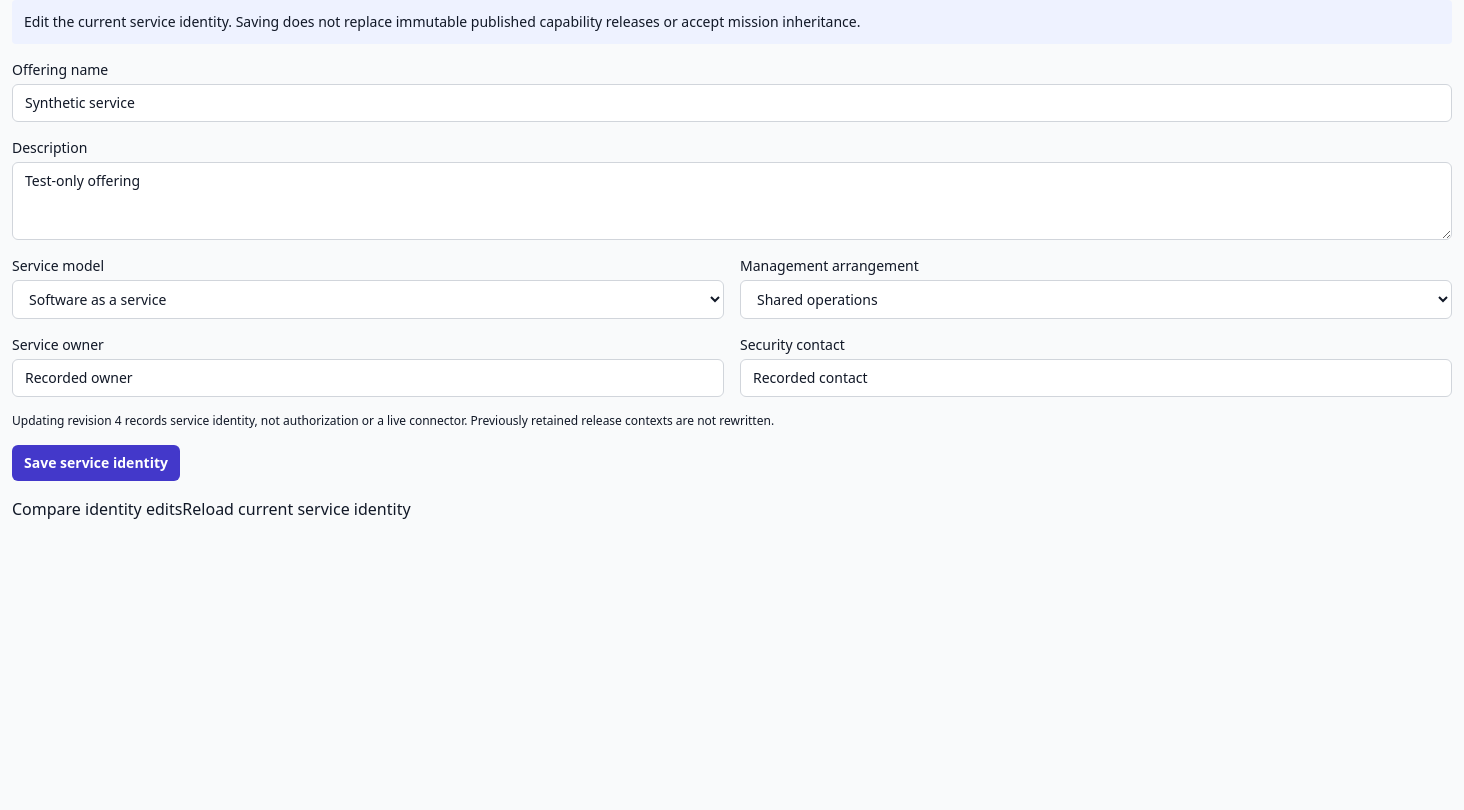
Test: compares recorded and missing metadata without inferred service duties: recorded=true
Select "Not recorded" in the dropdown labelled "Service model" at coordinates (368, 300), box 12,280 -> 724,319
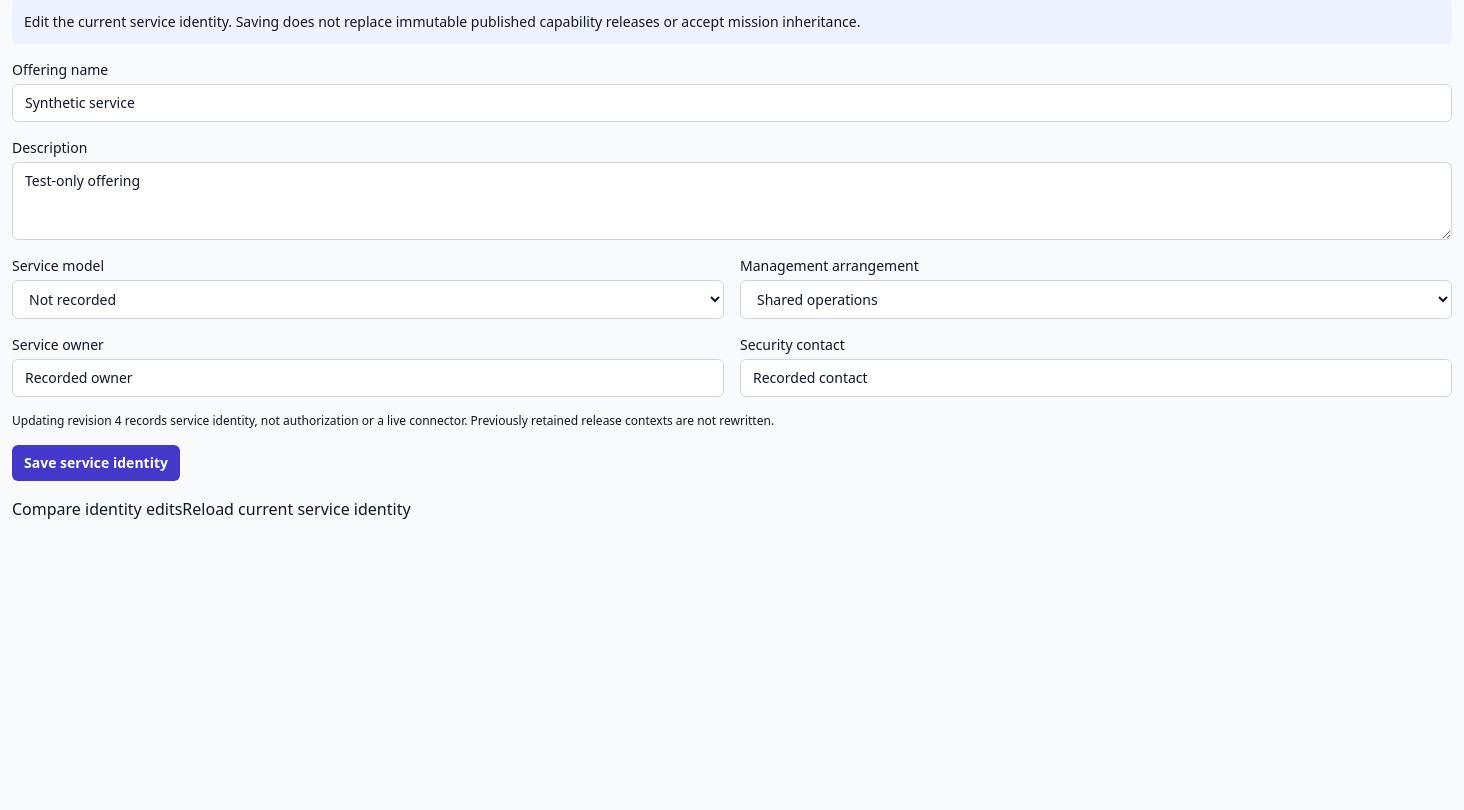
Select "Not recorded" in the dropdown labelled "Management arrangement" at coordinates (1096, 300), box 740,280 -> 1452,319
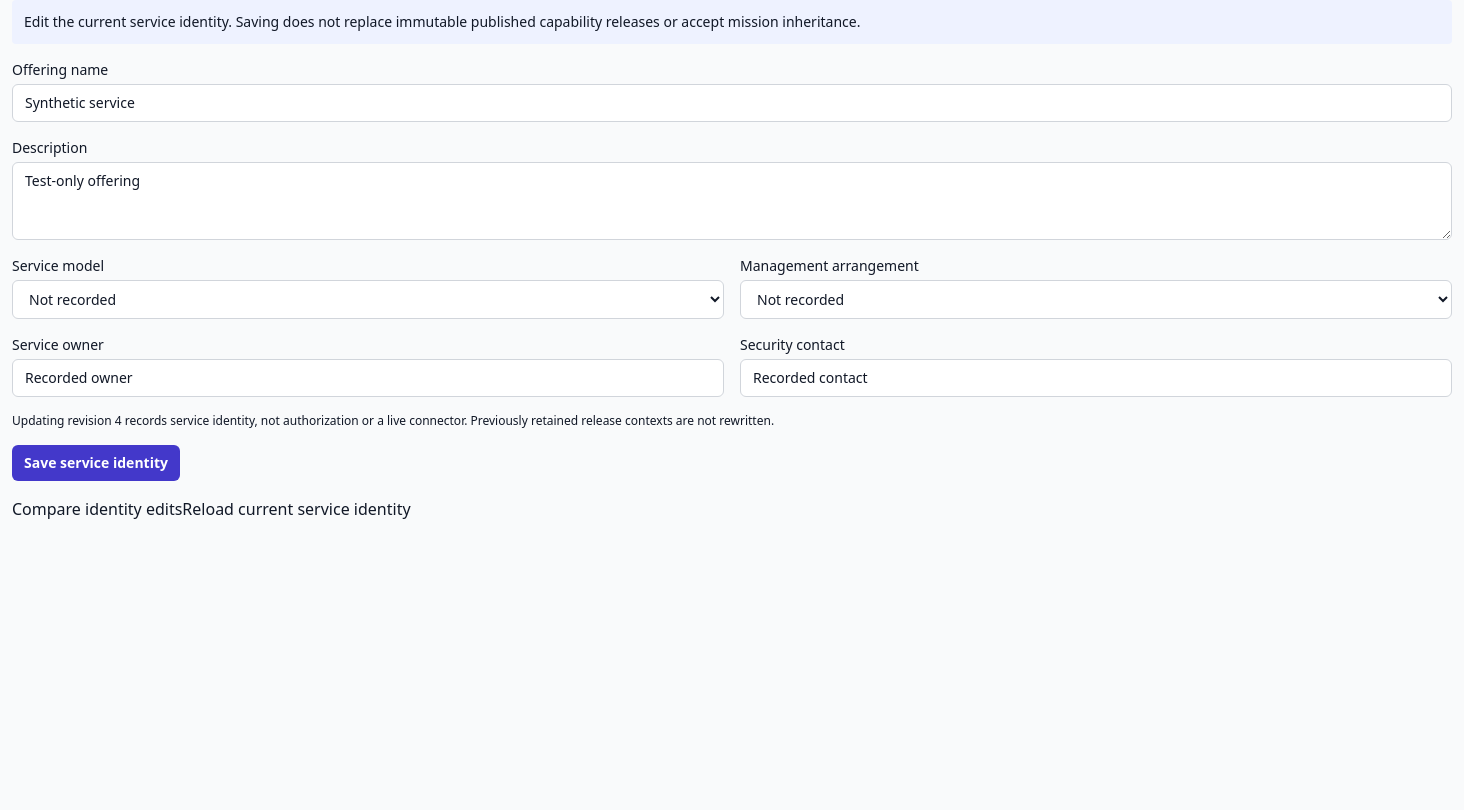
Clear the field labelled "Service owner" at coordinates (368, 378), box 12,359 -> 724,397
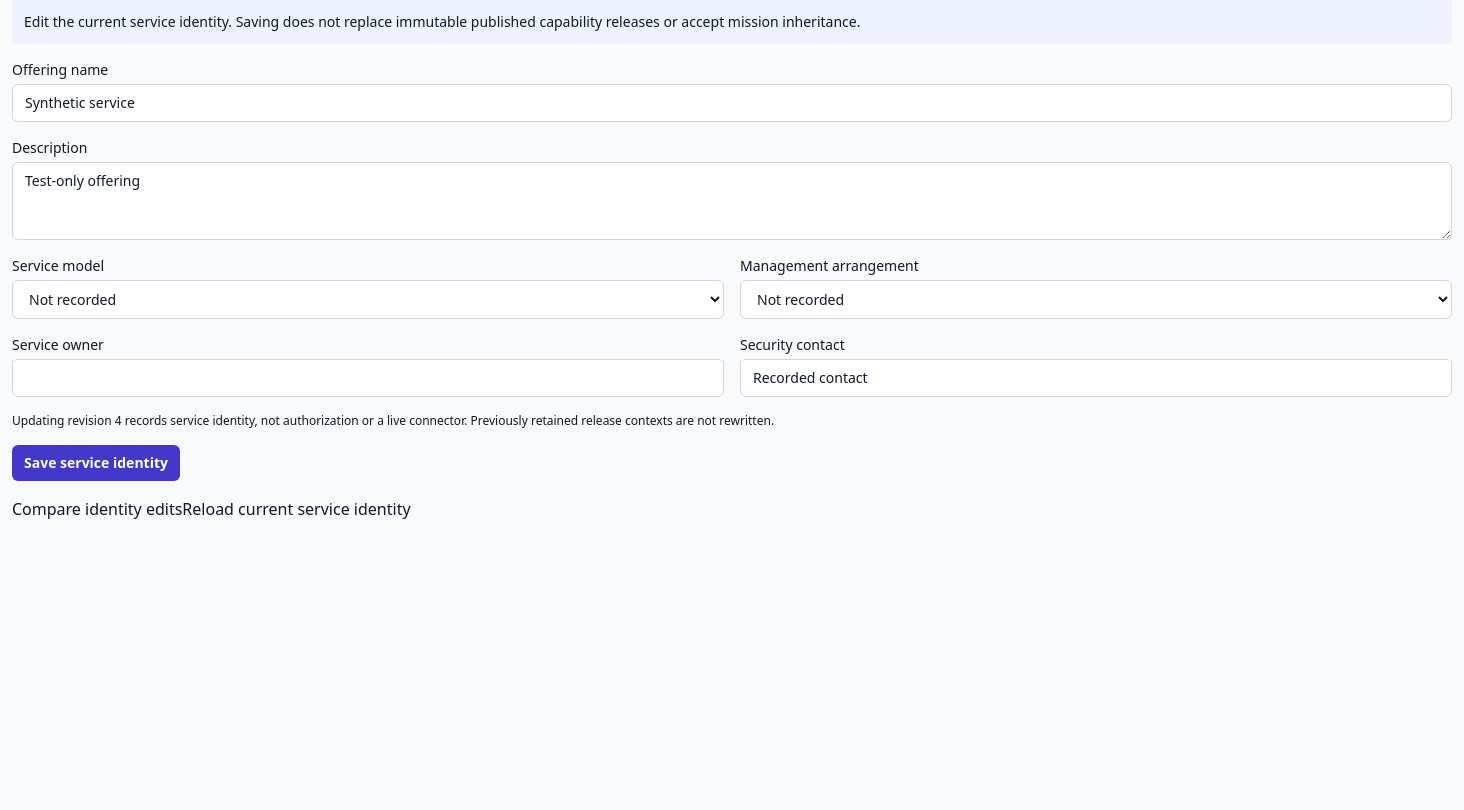
Clear the field labelled "Security contact" at coordinates (1096, 378), box 740,359 -> 1452,397
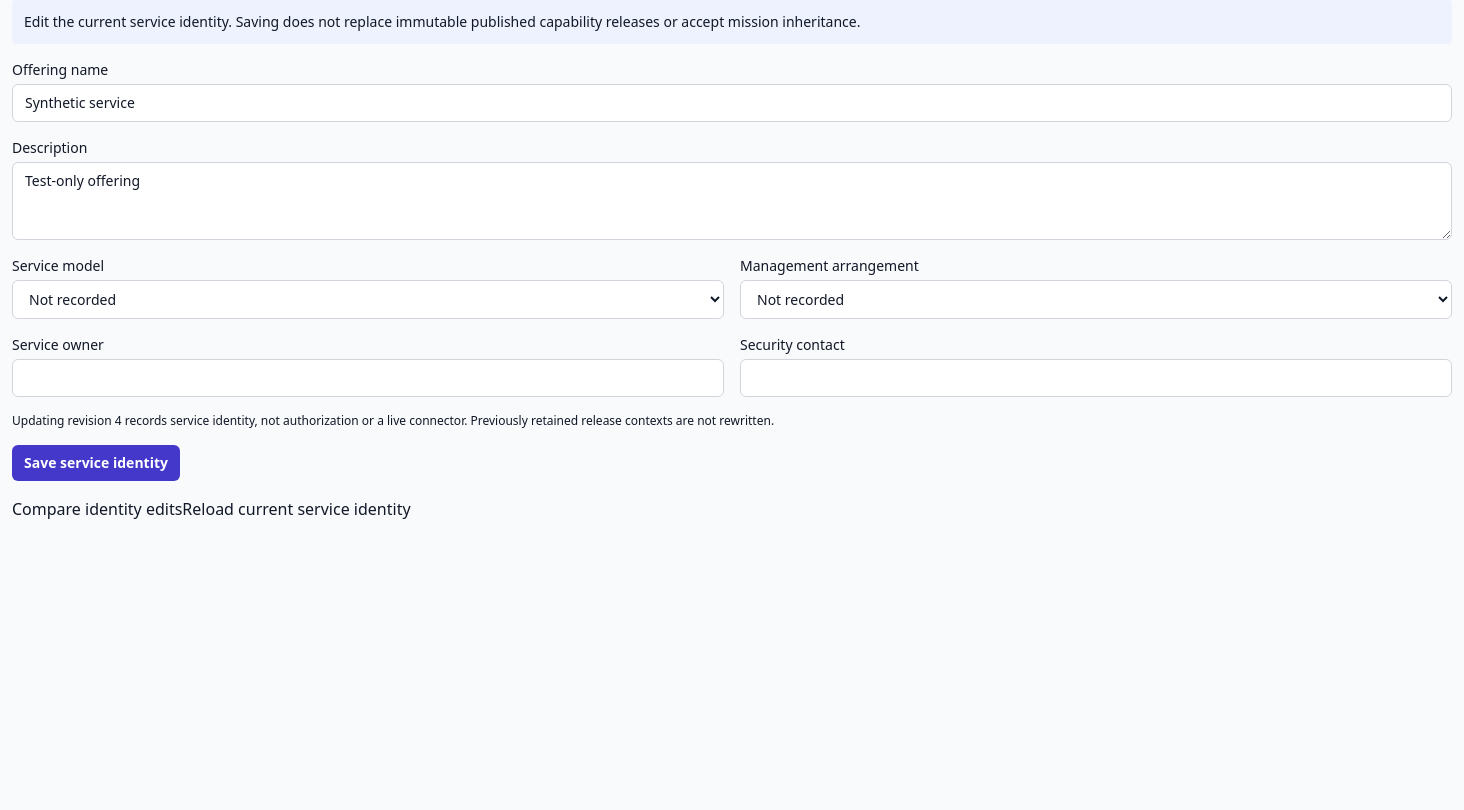
Replace the text in the text box labelled "Description" with "Proposed description" at coordinates (732, 201), box 12,162 -> 1452,240
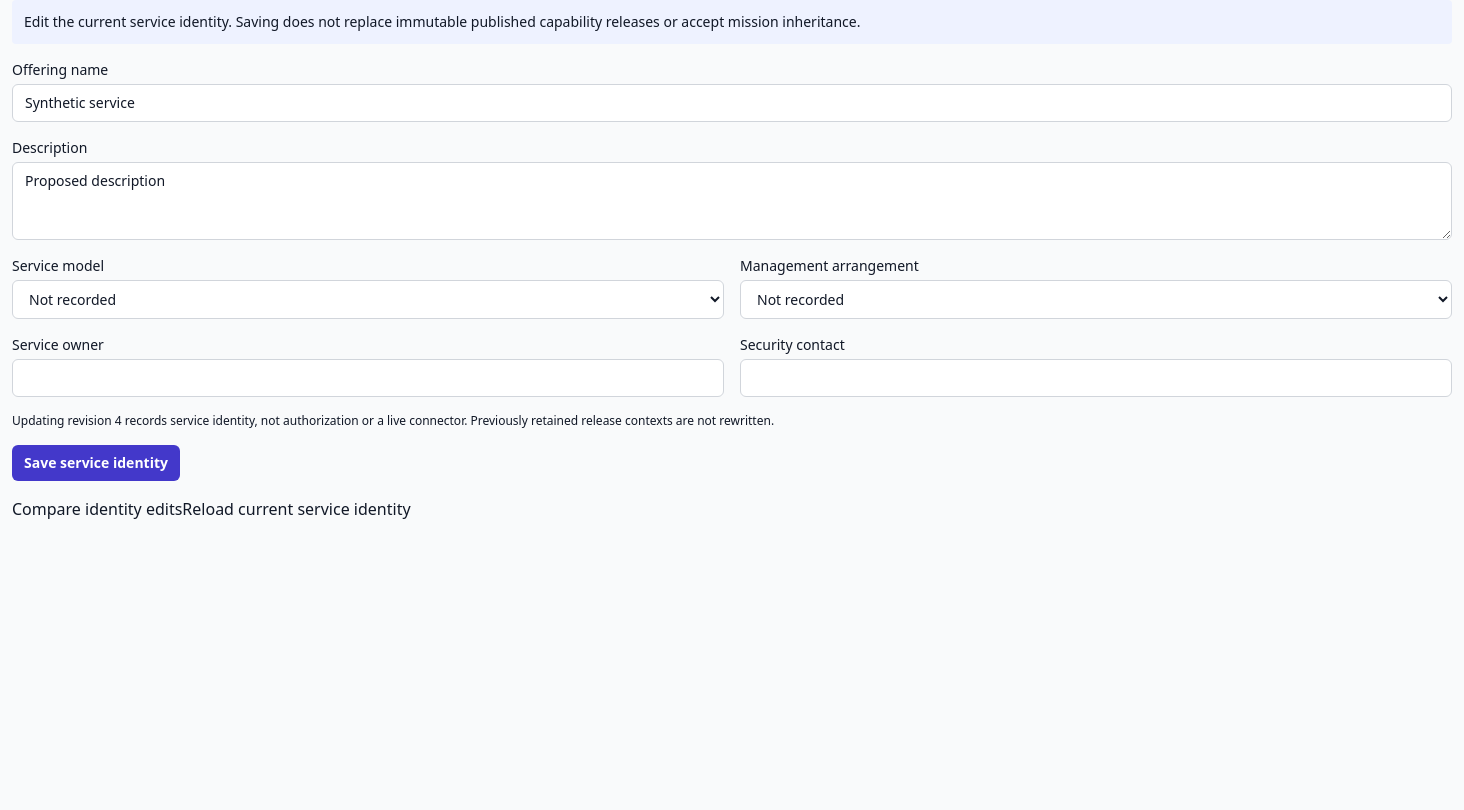
Click the button "Compare identity edits" at coordinates (97, 509), box 12,497 -> 182,521
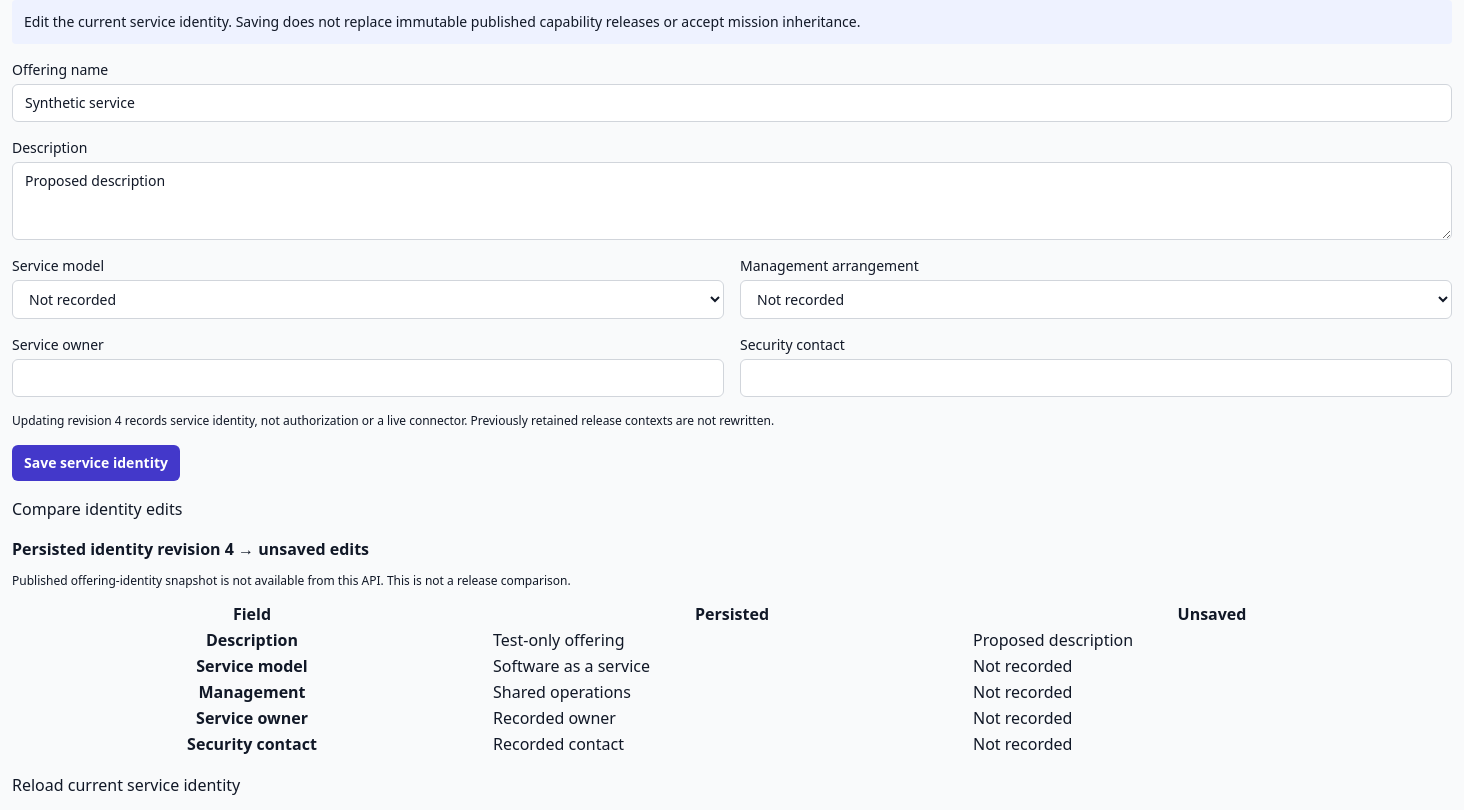
Now the table named "Identity changes" shows "Not recorded", box 973,655 -> 1072,677
